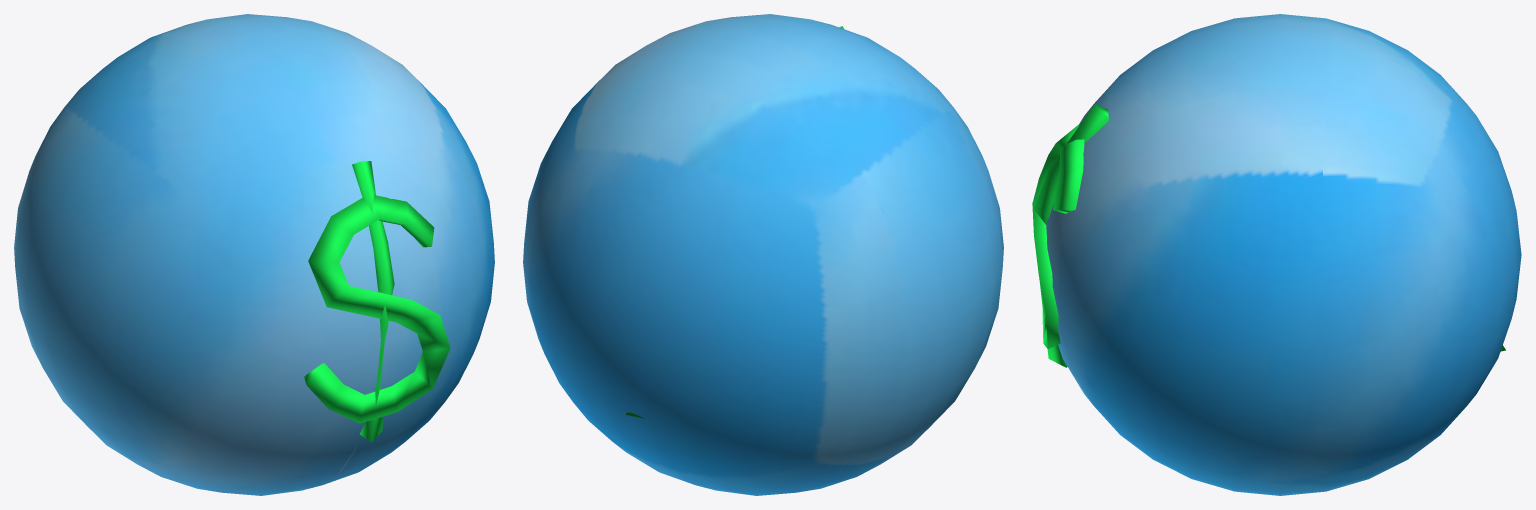
File: Moneyball3.obj
The picture shows the model from 3 angles, left to right: view 1: azimuth 30°, elevation 25°; view 2: azimuth 150°, elevation 25°; view 3: azimuth 270°, elevation 25°; orthographic projection.
Parts seen in each view (by area): view 1: Quad_Sphere_1, Tube; view 2: Quad_Sphere_1; view 3: Quad_Sphere_1, Tube.
Part boxes in pixels (x1,y1,x2,y2): Quad_Sphere_1: (14, 14, 494, 495); Tube: (304, 161, 450, 442); Quad_Sphere_1: (523, 14, 1003, 495); Quad_Sphere_1: (1046, 14, 1521, 495); Tube: (1032, 103, 1108, 367).
Bounding box in the file's own units: 1 × 1 × 1.01.
Materials: 3 (2 with a texture image).
